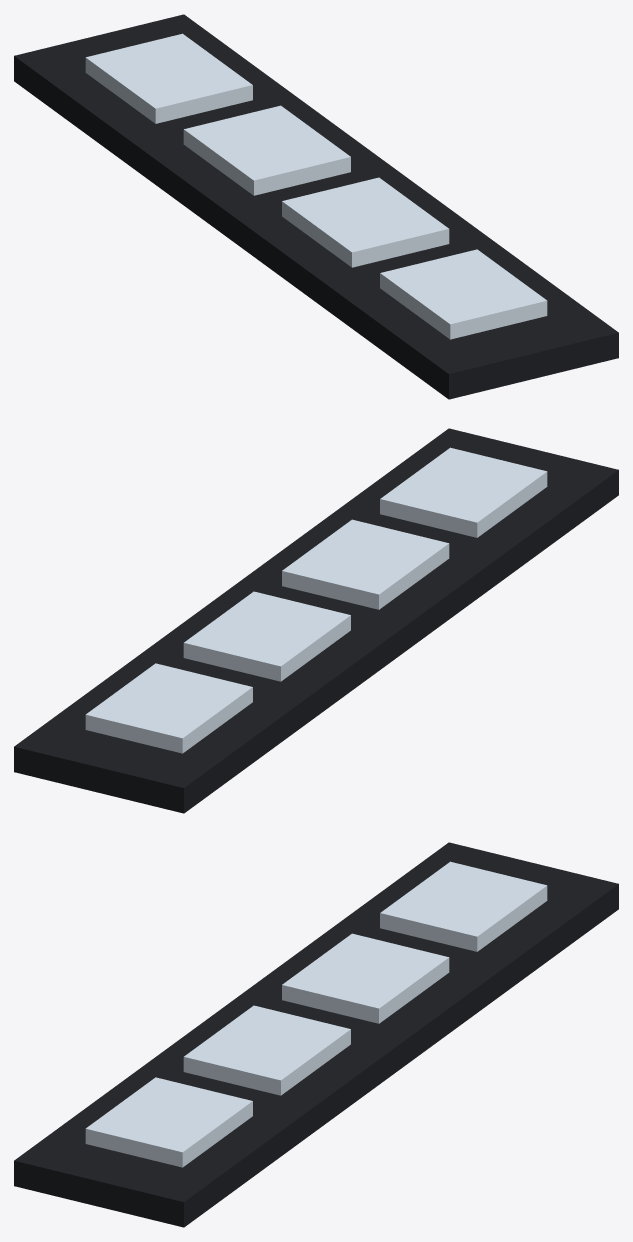
File: station_windows.glb
3 renders of one model, top to bottom at view 1: azimuth 30°, elevation 25°; view 2: azimuth 150°, elevation 25°; view 3: azimuth 330°, elevation 25°, orthographic.
Size of the model in its own units: 0.14 by 0.032 by 0.62.
